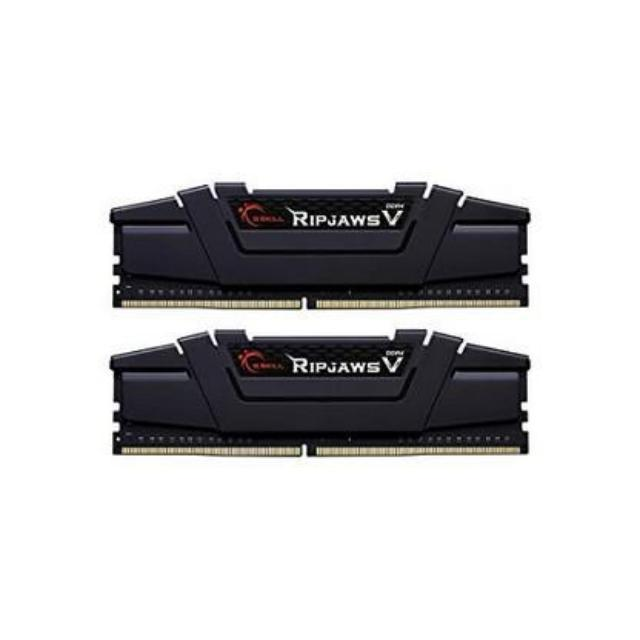RAM: (93, 174, 539, 324), (105, 328, 540, 461)
